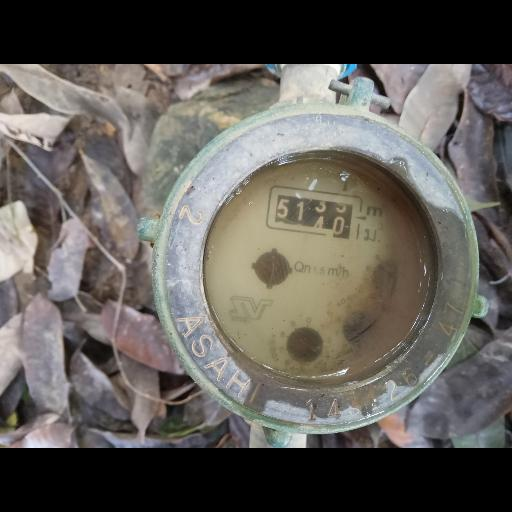1: (293, 197, 317, 227)
3: (313, 199, 336, 229)
5: (275, 194, 298, 225)
9: (332, 202, 353, 240)
border_water_meter_number: (265, 185, 364, 242)
